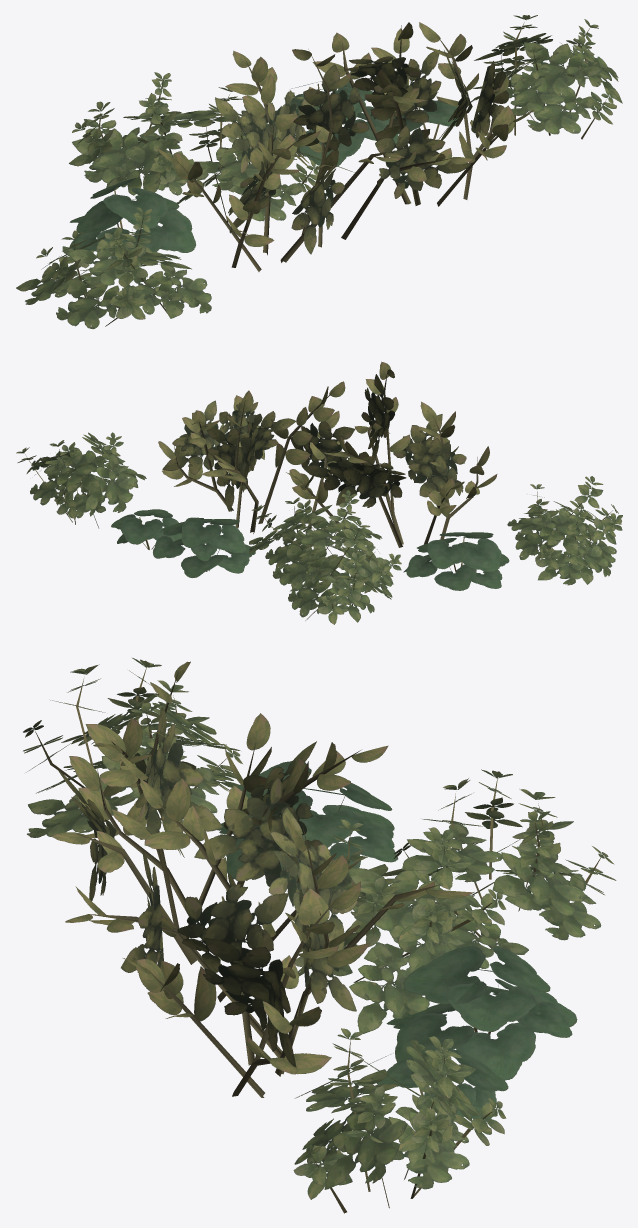
File: Bush5.fbx
The picture shows the model from 3 angles, top to bottom: view 1: azimuth 30°, elevation 25°; view 2: azimuth 150°, elevation 25°; view 3: azimuth 270°, elevation 25°; orthographic projection. The views are drawn at different scales.
Visible parts, largest first — view 1: SM_cmn_mount_Bush_04a; view 2: SM_cmn_mount_Bush_04a; view 3: SM_cmn_mount_Bush_04a.
Part boxes in pixels (bbox=[...]): SM_cmn_mount_Bush_04a: bbox=[16, 15, 622, 329]; SM_cmn_mount_Bush_04a: bbox=[16, 361, 622, 624]; SM_cmn_mount_Bush_04a: bbox=[23, 658, 616, 1213].
Bounding box in the file's own units: 364 × 123 × 196.
